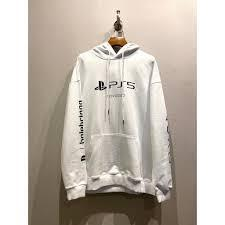sweater: (56, 35, 181, 207)
